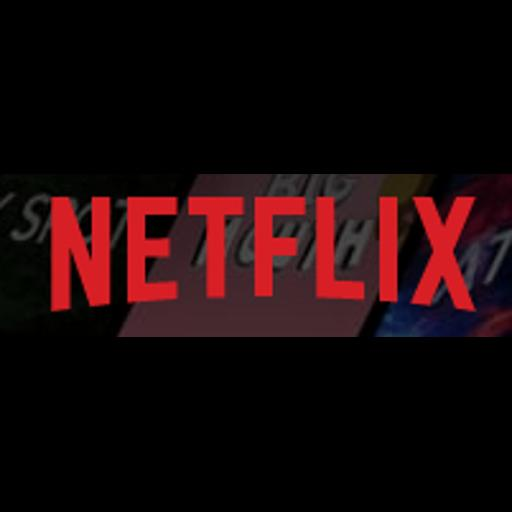Netflix: (0, 174, 512, 337)
